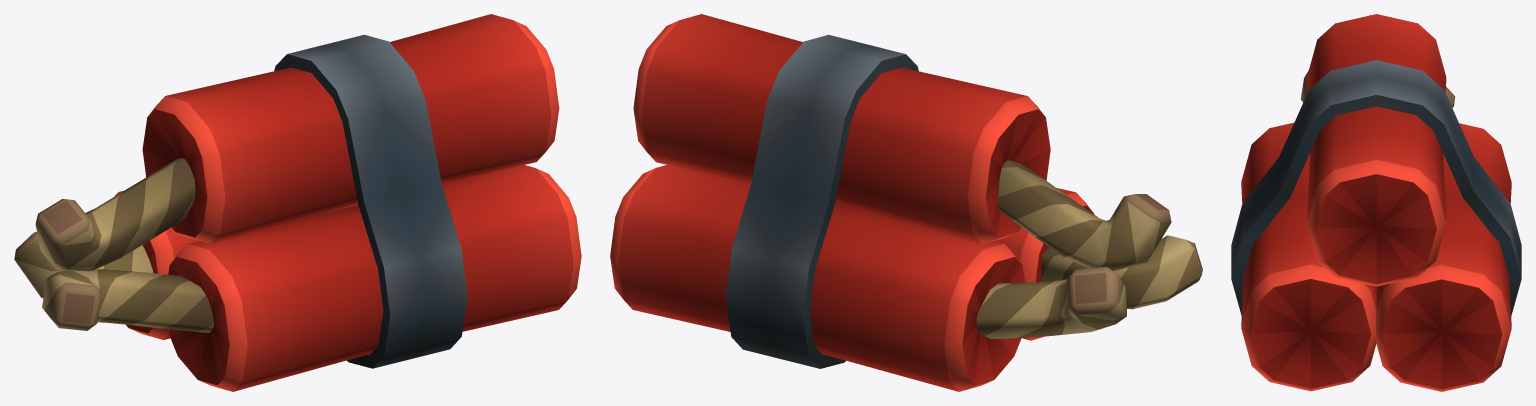
The model's file is tnt_bundle.fbx.
The picture shows the model from 3 angles, left to right: view 1: azimuth 30°, elevation 25°; view 2: azimuth 150°, elevation 25°; view 3: azimuth 270°, elevation 25°; orthographic projection. The views are drawn at different scales.
Parts seen in each view (by area): view 1: tnt_bundle; view 2: tnt_bundle; view 3: tnt_bundle.
Boxes of the visible parts, x1,y1,x2,y2 form: tnt_bundle: (14, 14, 581, 391); tnt_bundle: (610, 14, 1202, 391); tnt_bundle: (1231, 14, 1521, 391).
Bounding box in the file's own units: 125 × 65.16 × 66.65.
